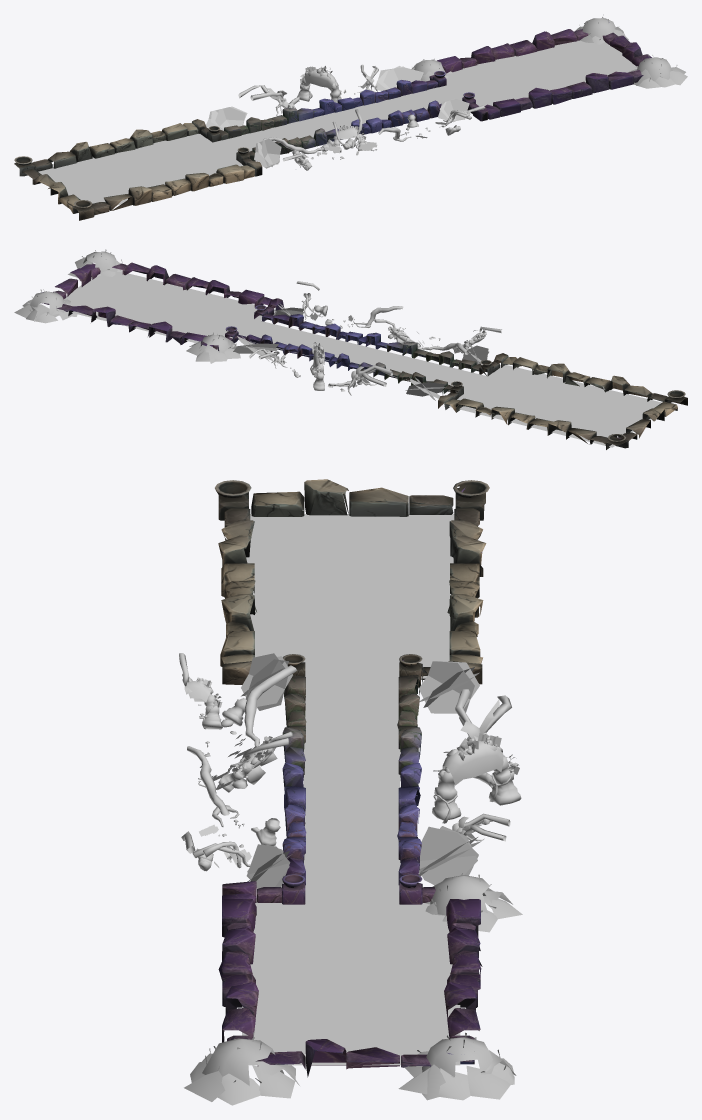
File: Map_02.08.v2.fbx
The picture shows the model from 3 angles, top to bottom: view 1: azimuth 30°, elevation 25°; view 2: azimuth 150°, elevation 25°; view 3: azimuth 270°, elevation 25°; orthographic projection. The views are drawn at different scales.
Parts seen in each view (by area): view 1: stone_all_low, Plane001, arena_jungle_plants, Кусты, Sphere001; view 2: Plane001, stone_all_low, arena_jungle_plants, Sphere001, Кусты; view 3: Plane001, stone_all_low, arena_jungle_plants, Sphere001, Кусты.
Boxes of the visible parts, <box> form: stone_all_low: <box>14,22,651,220</box>; Plane001: <box>38,40,636,205</box>; arena_jungle_plants: <box>238,64,485,170</box>; Кусты: <box>206,66,469,168</box>; Sphere001: <box>411,14,687,88</box>; Plane001: <box>64,271,661,447</box>; stone_all_low: <box>41,262,687,449</box>; arena_jungle_plants: <box>249,281,501,395</box>; Sphere001: <box>14,249,240,363</box>; Кусты: <box>232,303,488,400</box>; Plane001: <box>242,514,460,1065</box>; stone_all_low: <box>215,479,489,1077</box>; arena_jungle_plants: <box>179,653,521,871</box>; Sphere001: <box>184,873,522,1105</box>; Кусты: <box>241,653,481,888</box>.
Size of the model in its own units: 8411 by 498 by 2054.
